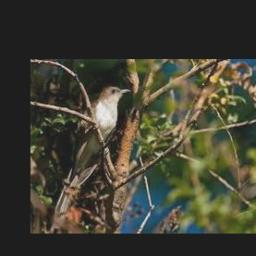Cuckoo: (55, 86, 130, 216)
